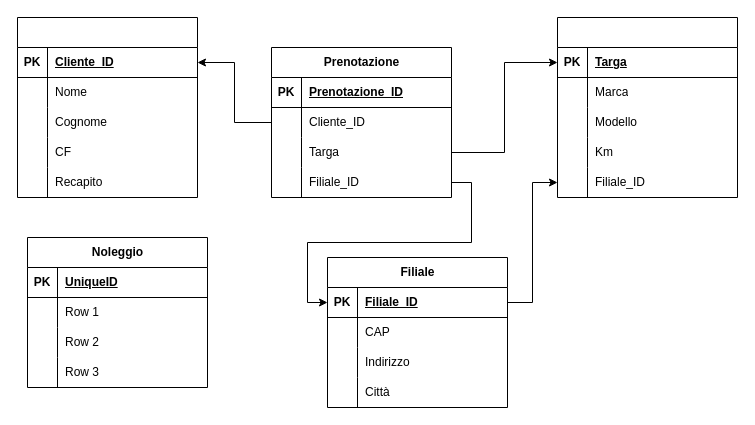
This 755x425 diagram has some shape labels left out. Each missing label, with the box of its shape:
Auto: (556, 16, 738, 198)
Clienti: (16, 16, 198, 198)
